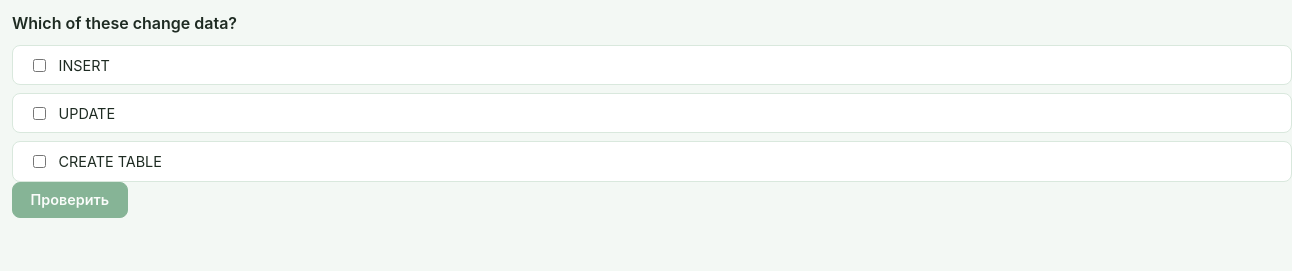
Scenario: QuizView with a multi-select quiz › shows a generic error message and keeps the form usable when the request fails (edge case)
Click the checkbox labelled "INSERT": click(40, 65) [33,59,46,72]
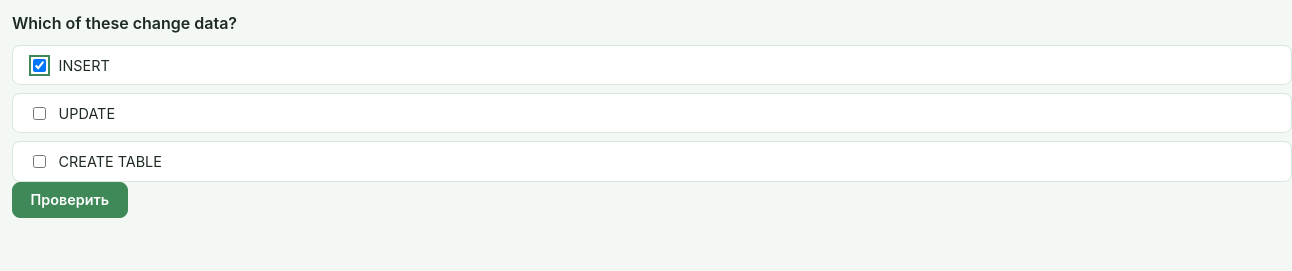
Click the button "Проверить": click(70, 200) [12,182,128,218]
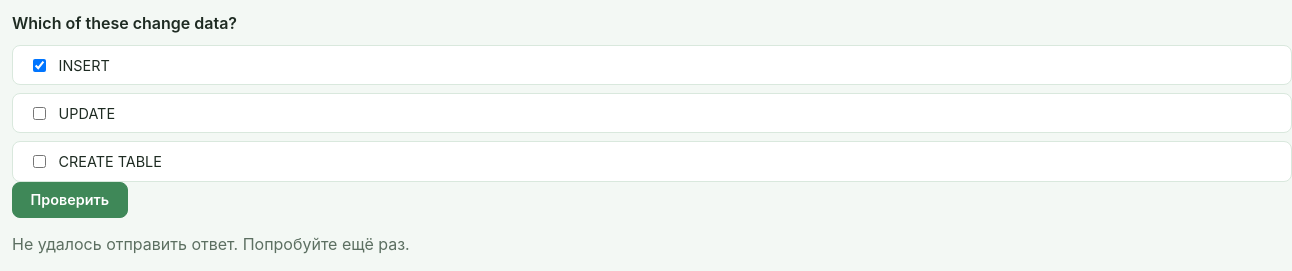
Expected: the button "Проверить" is enabled, [12,182,128,218]
Expected: the text "Не удалось отправить ответ. Попробуйте ещё раз." is shown, [12,234,410,254]
